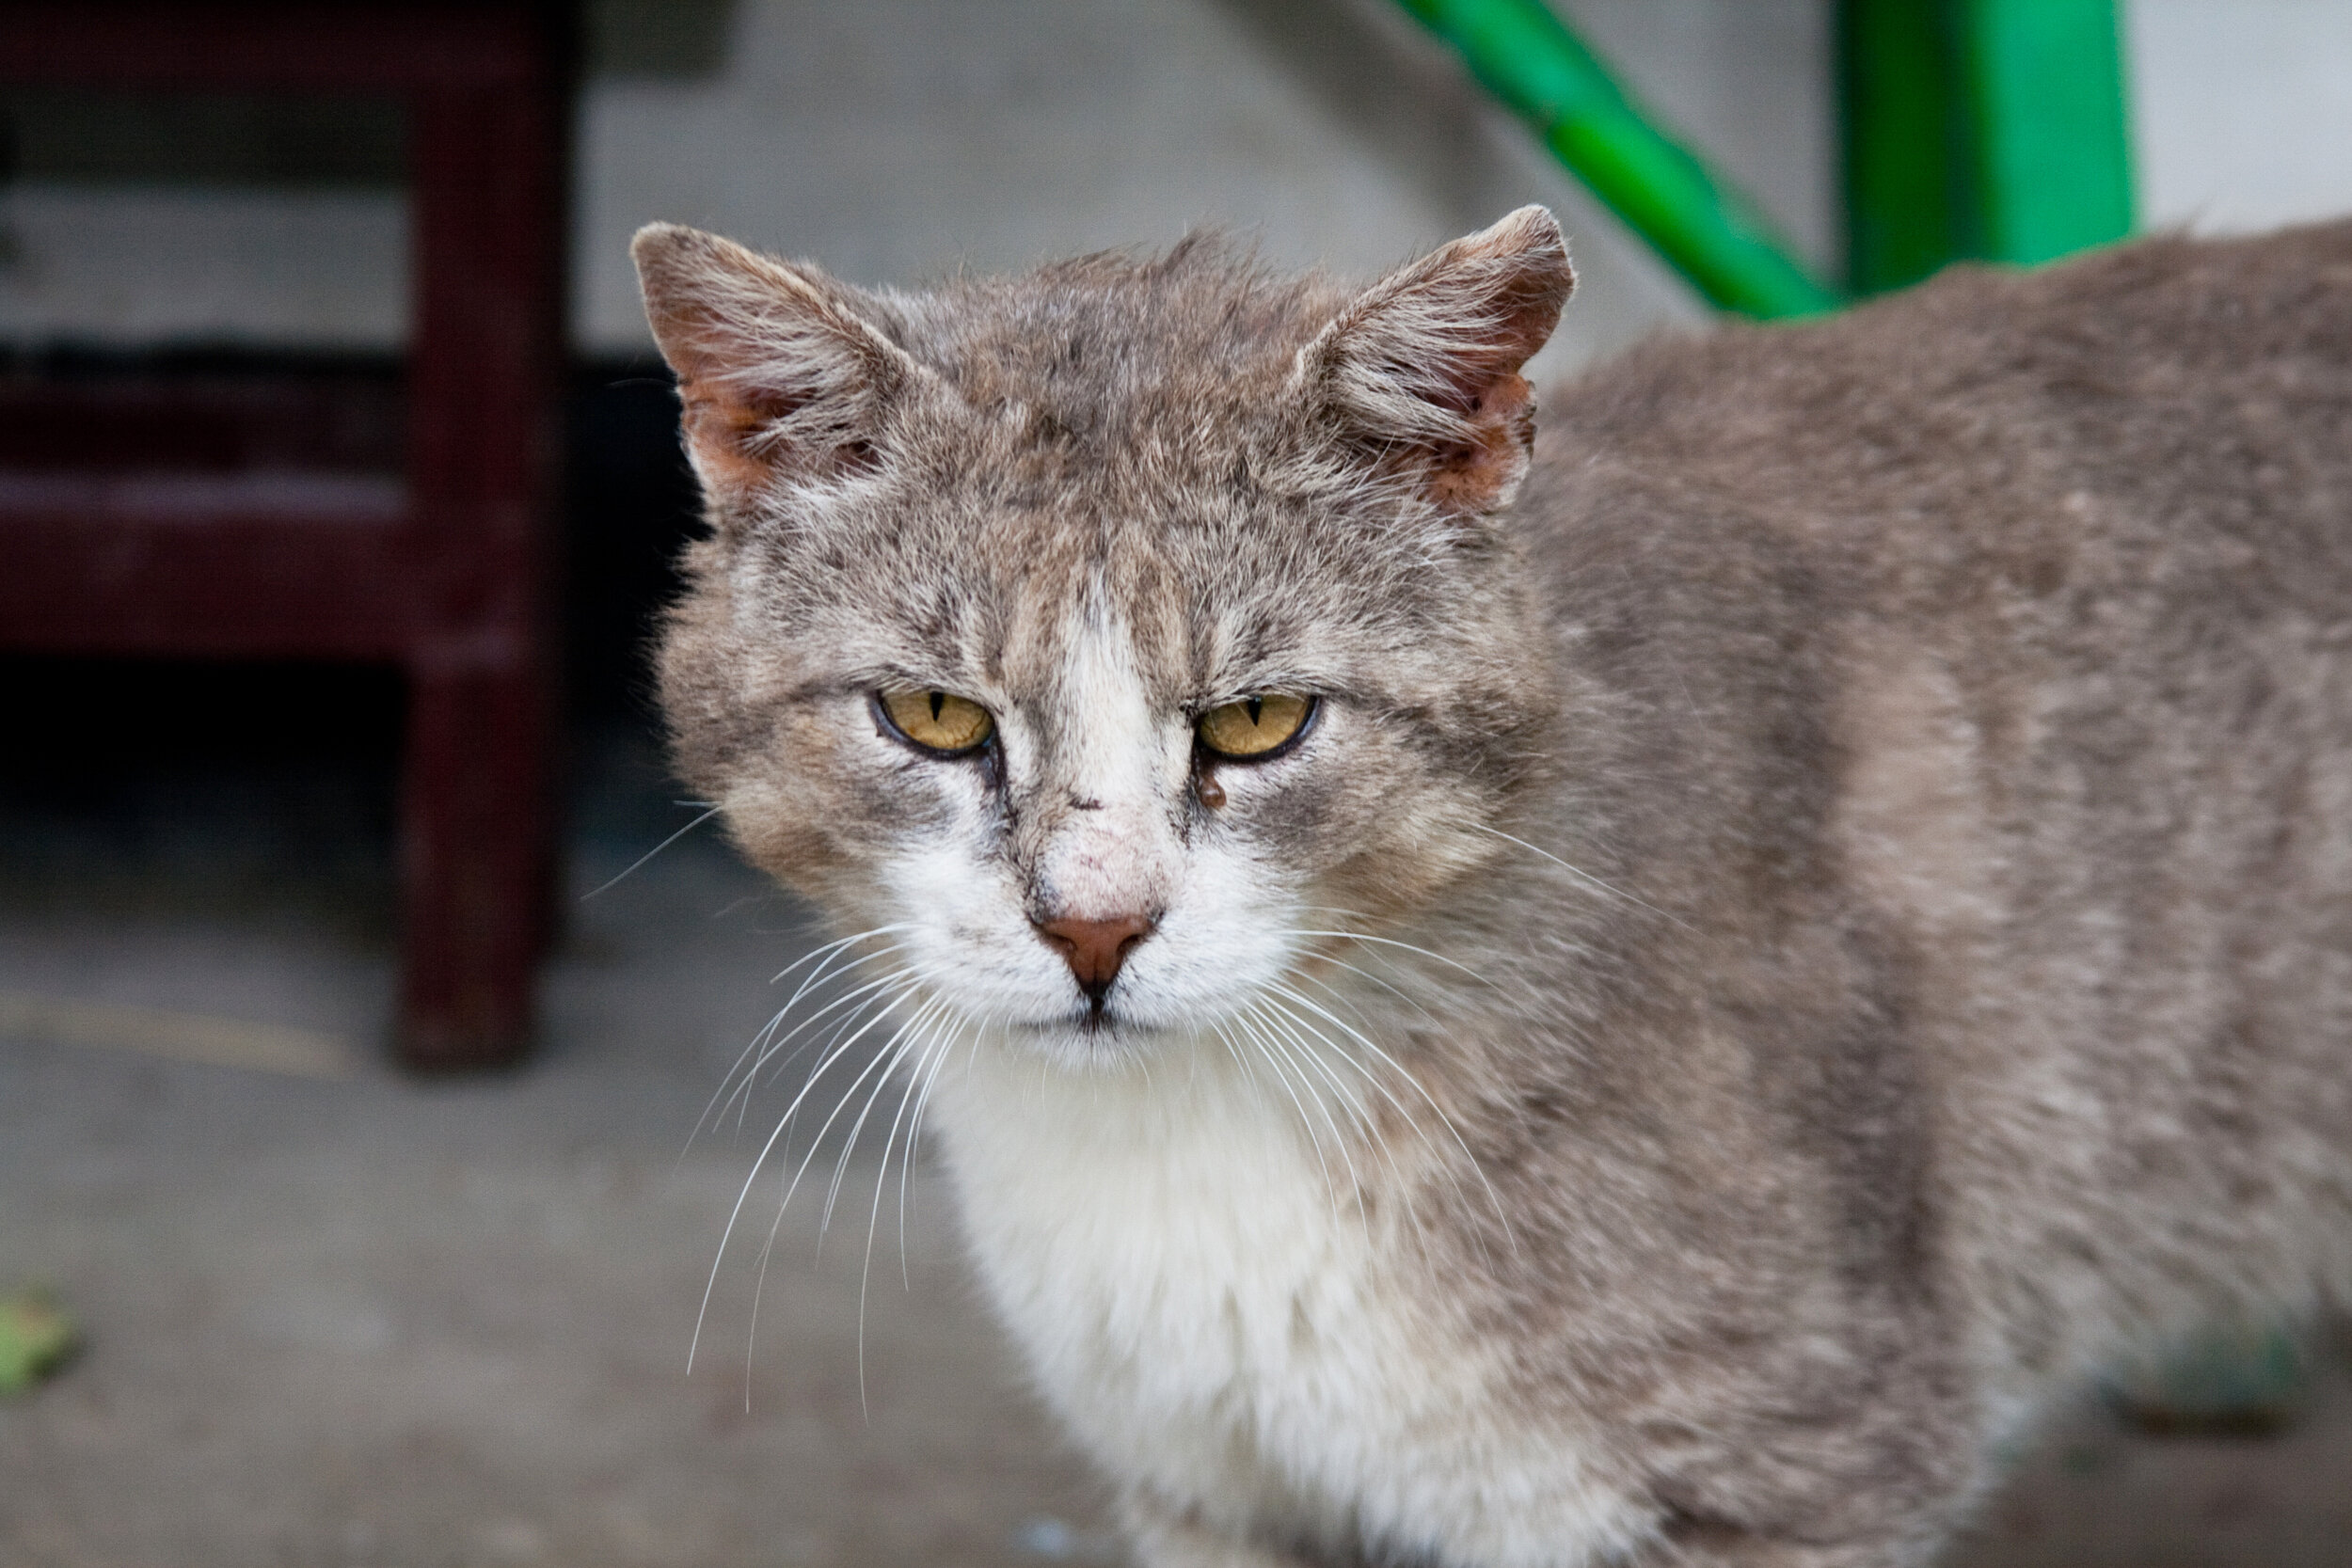Cat: (534, 135, 2352, 1568)
